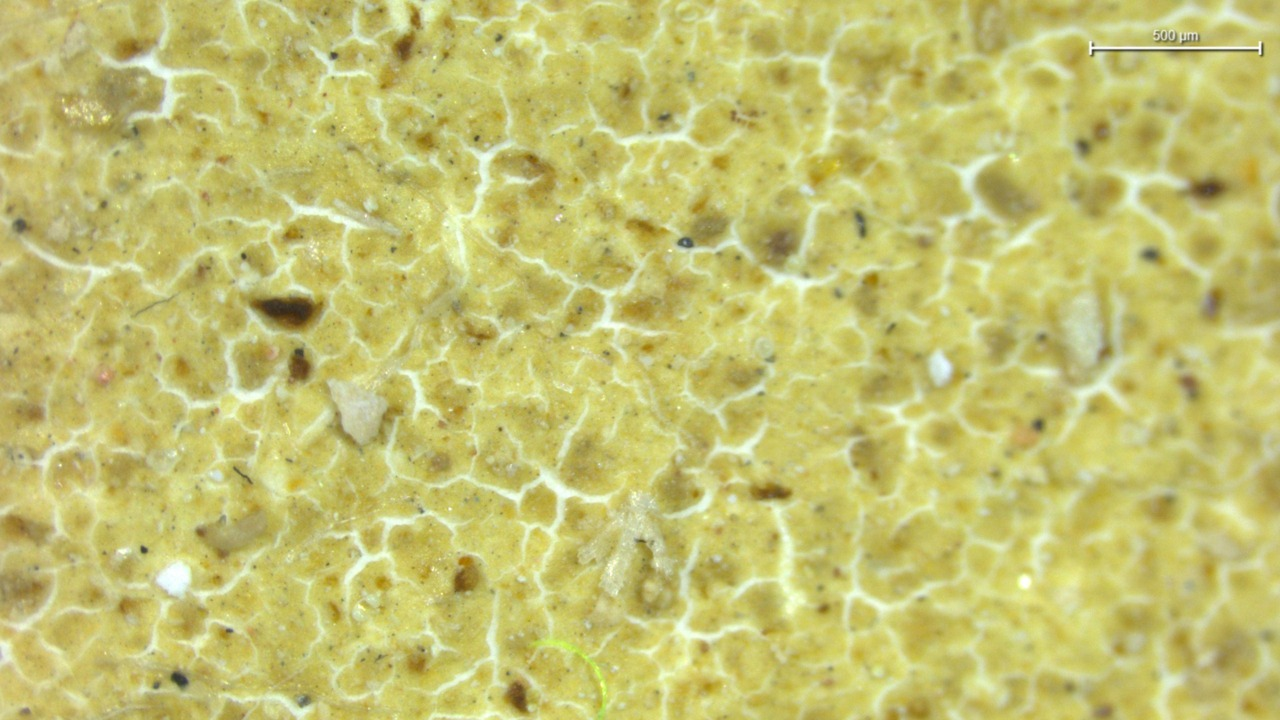microplastic_fragment: (326, 379, 387, 445), (154, 561, 191, 598)
